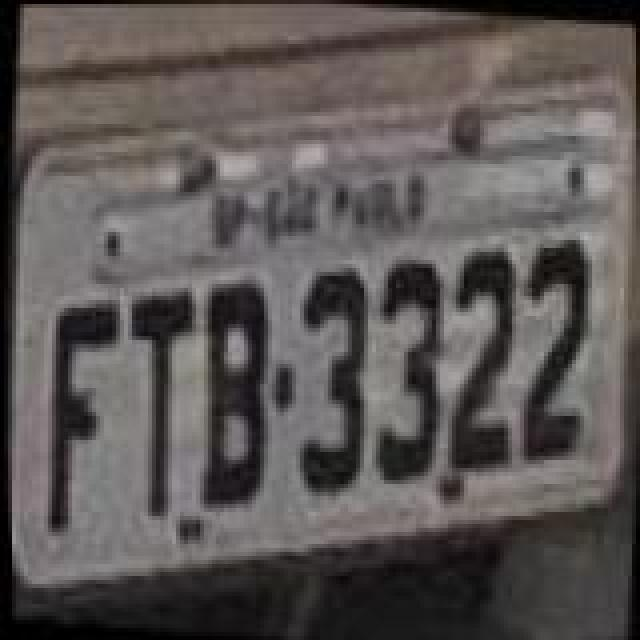2: (436, 242, 532, 478), (510, 236, 602, 468)
3: (284, 270, 384, 502), (362, 254, 454, 490)
B: (184, 276, 284, 516)
F: (28, 298, 128, 542)
T: (108, 282, 208, 522)
